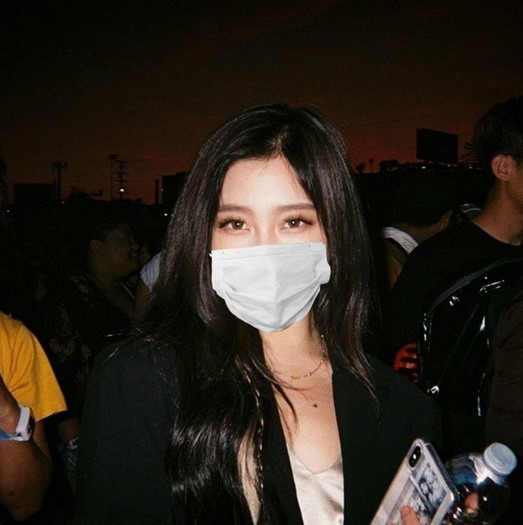face_with_mask: (199, 121, 337, 333)
